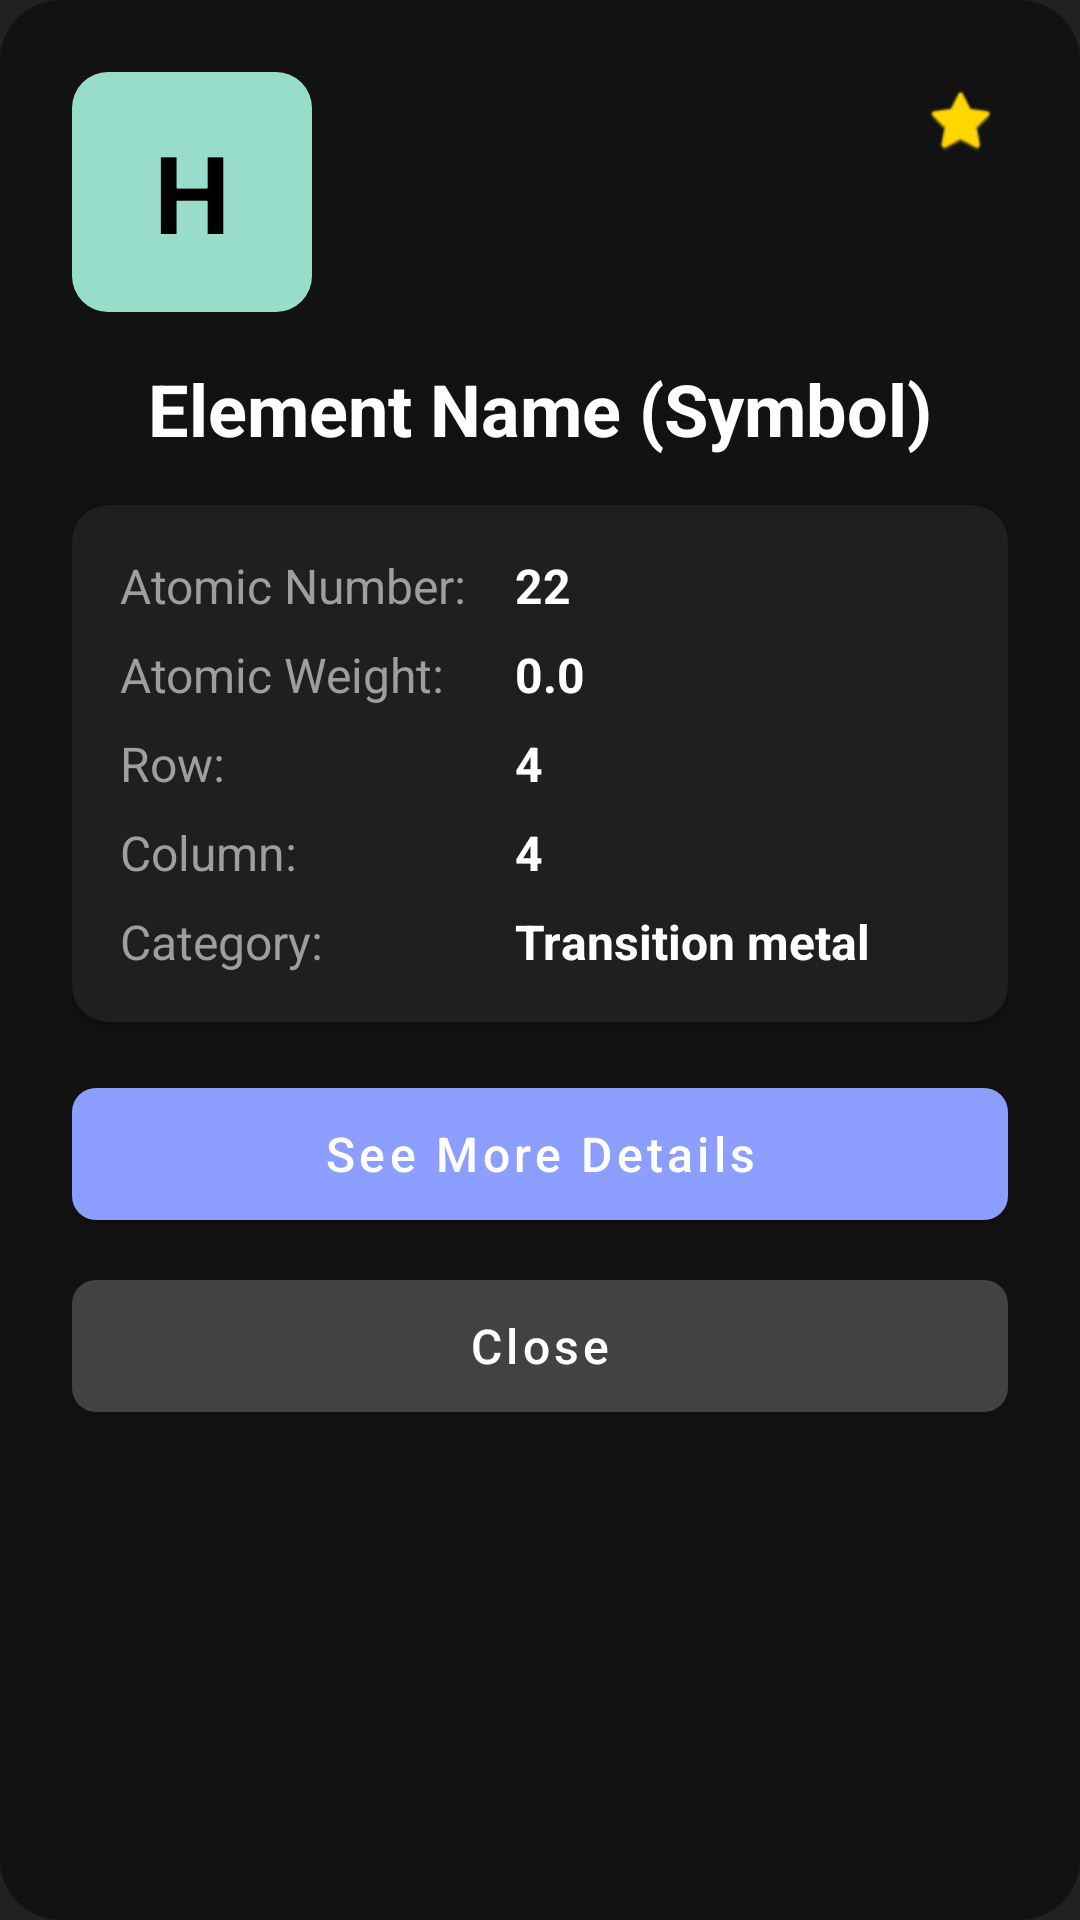

Point at icon controls on the screen. Image size 1080 x 1920, points as (x,y).
Add to favorites: (960,120)
